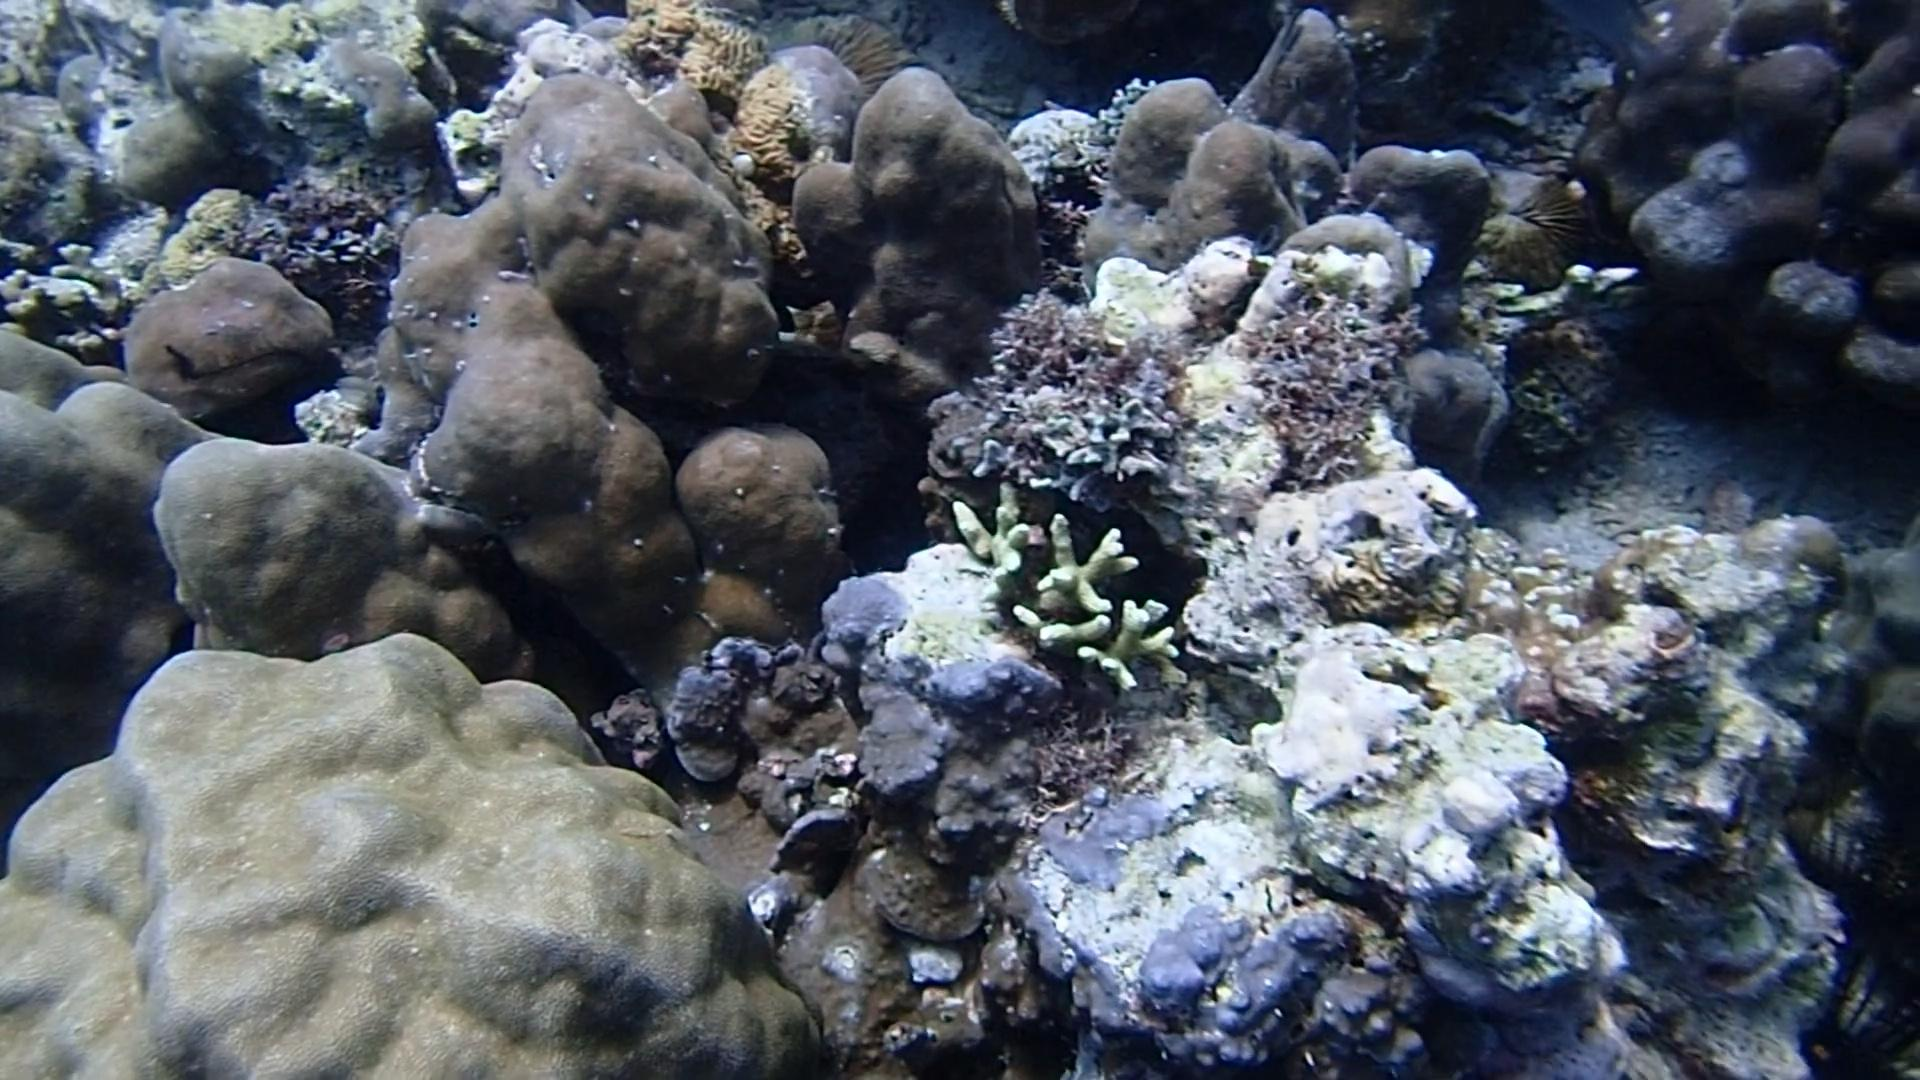Blue Fish Two: (1547, 0, 1663, 90)
